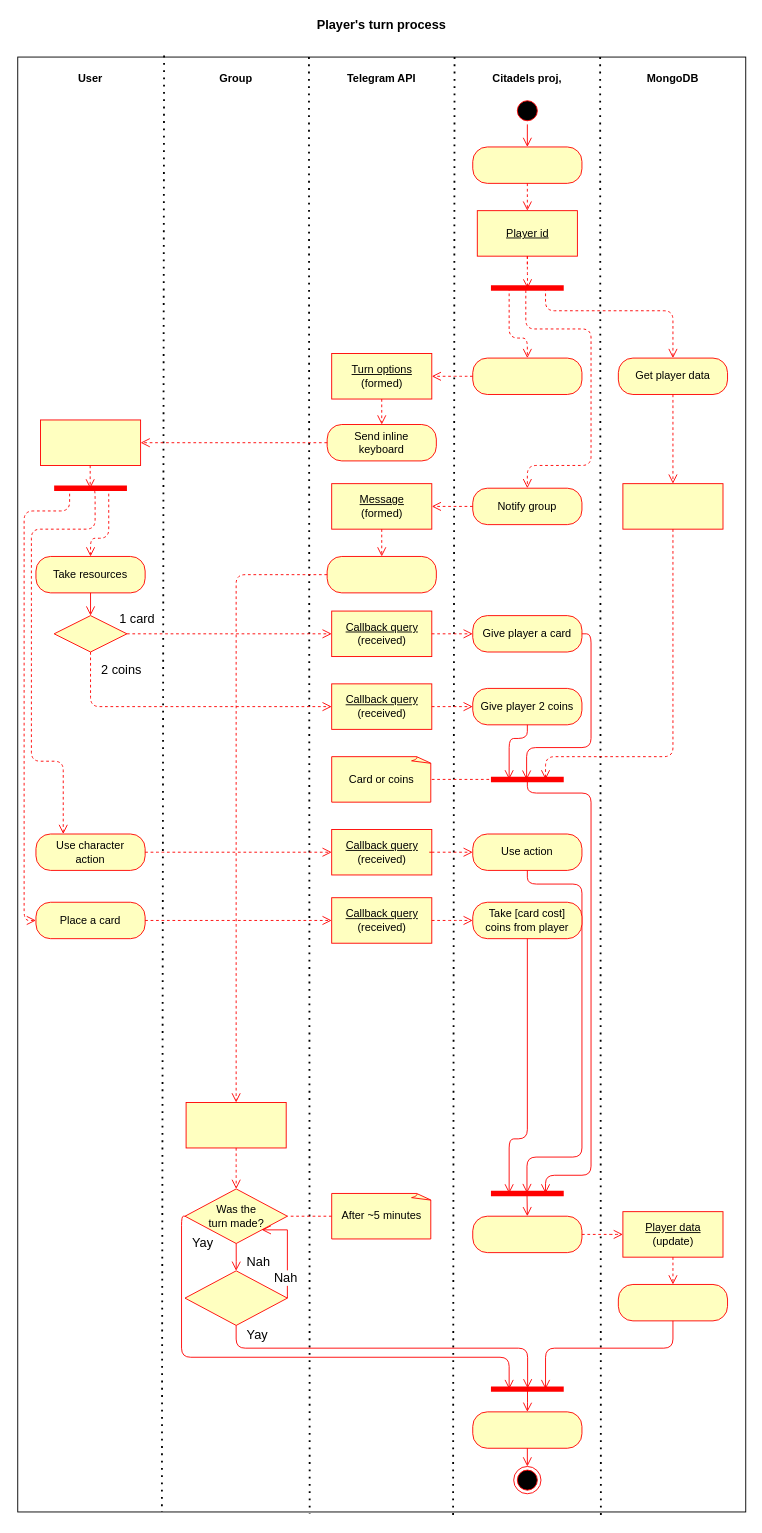
The diagram is 762 pixels wide and 1533 high, and some of its shapes have lost their labels. Each missing label, with the box of its shape:
Decide next player to make a turn: (472, 146, 582, 183)
Inline keyboard (received): (40, 419, 141, 465)
Message (received): (185, 1102, 286, 1148)
Next turn: (472, 1411, 582, 1448)
Notify player of their turn: (472, 357, 582, 394)
Player data (exported): (622, 483, 723, 529)
Save player data: (617, 1284, 728, 1321)
Send message: (326, 556, 436, 593)
Skip turn?: (184, 1270, 287, 1325)
Type: (53, 615, 127, 652)
Update player: (472, 1215, 582, 1253)
